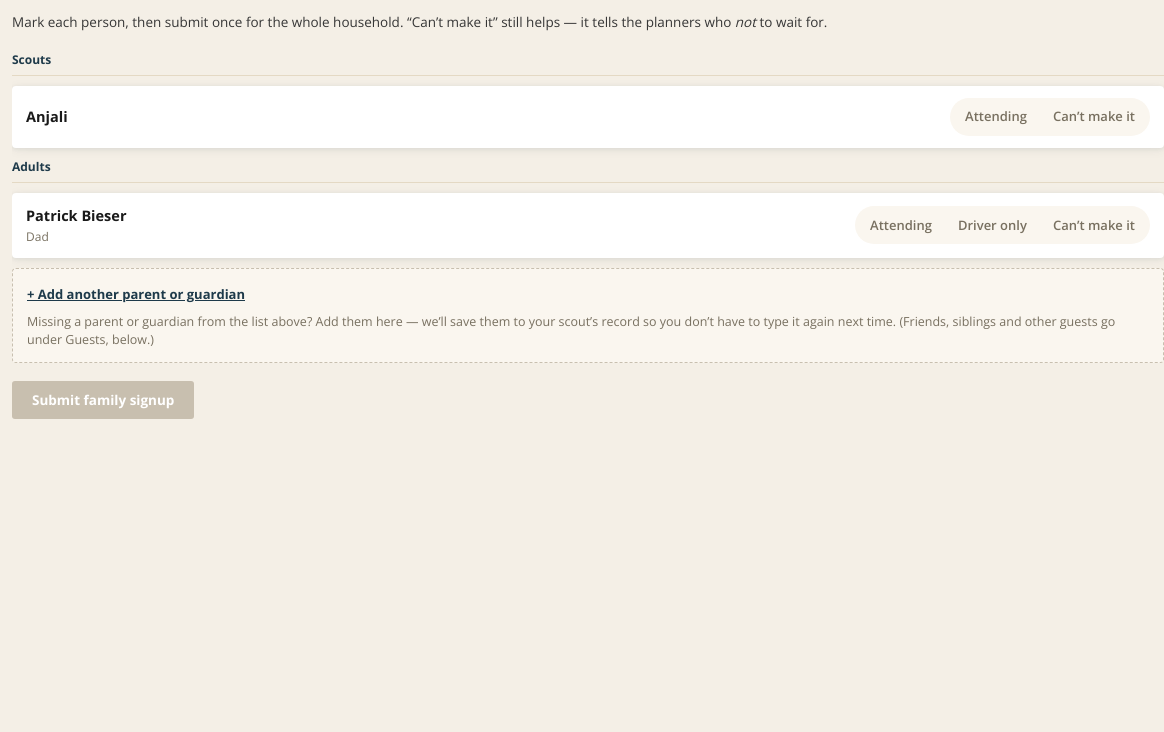
Test: PersonFirstForm — transportation › Driver_CannotGoBelowOneSeat
The image size is (1164, 732).
Click the button "Attending" in the row of "Patrick Bieser" at (901, 225), box [858,209,944,241]
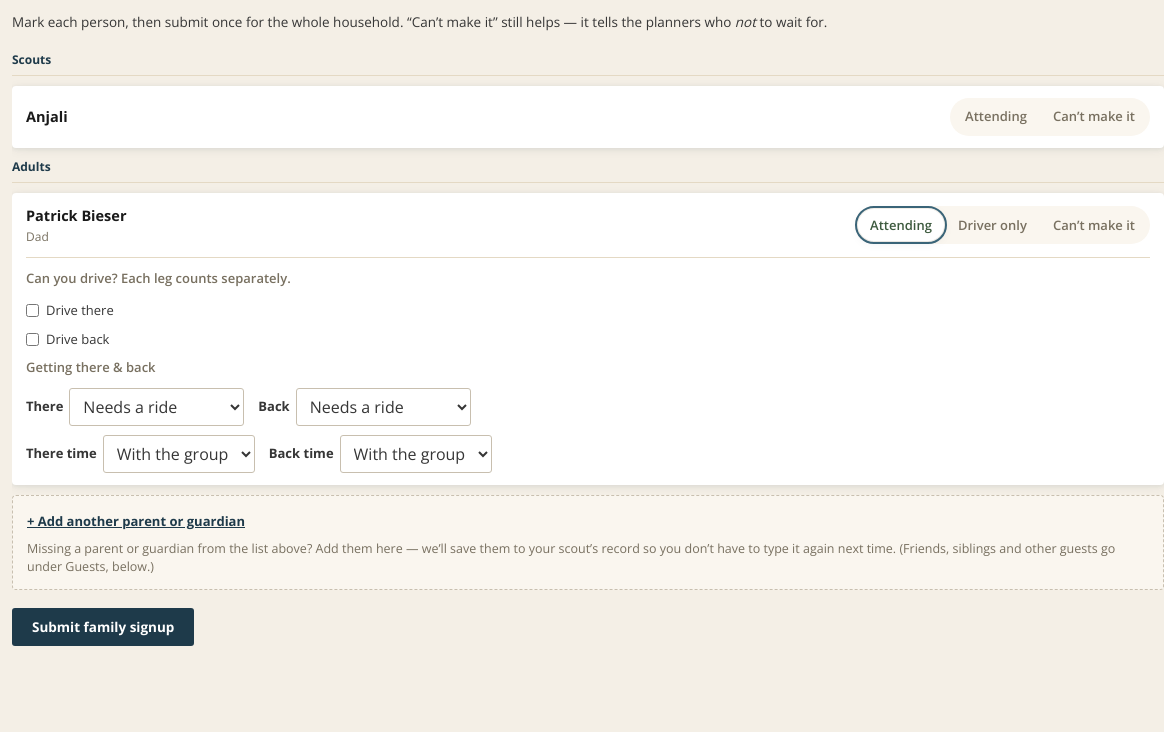
Click the checkbox labelled "Drive there" at (32, 311), box [26,304,39,317]
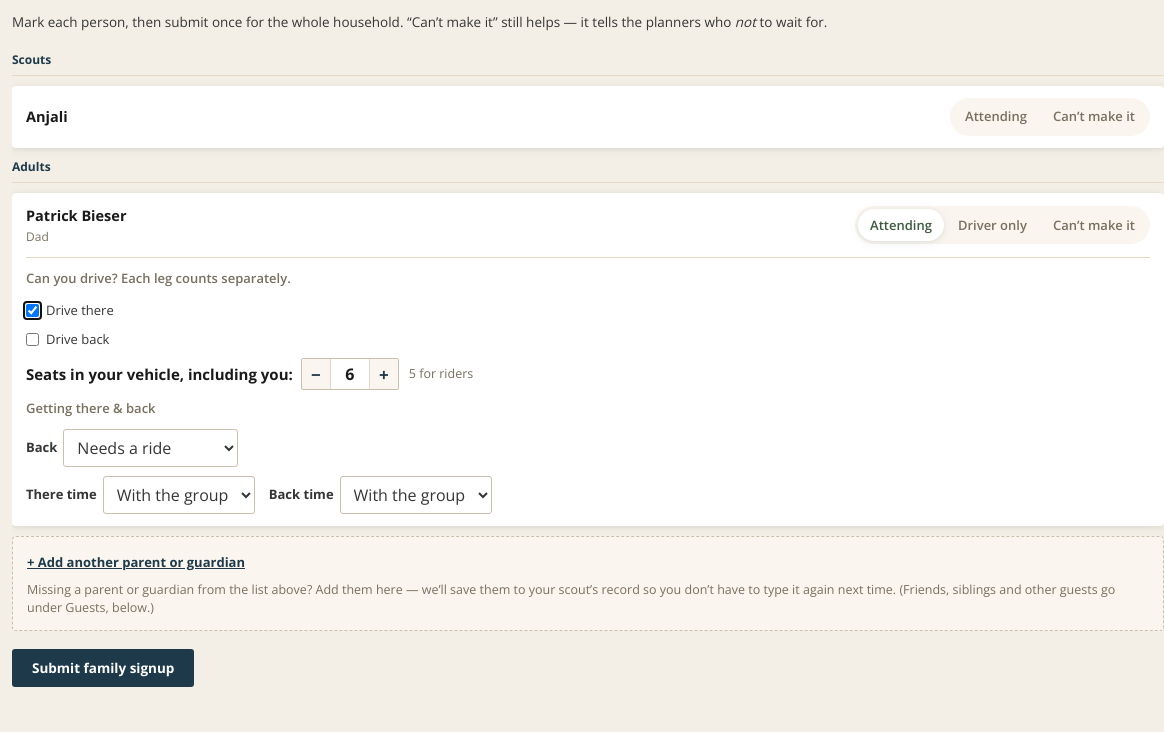
Replace the text in the number field labelled "Seats in your vehicle, including you:" with "0" at (350, 374), box [330,359,370,389]
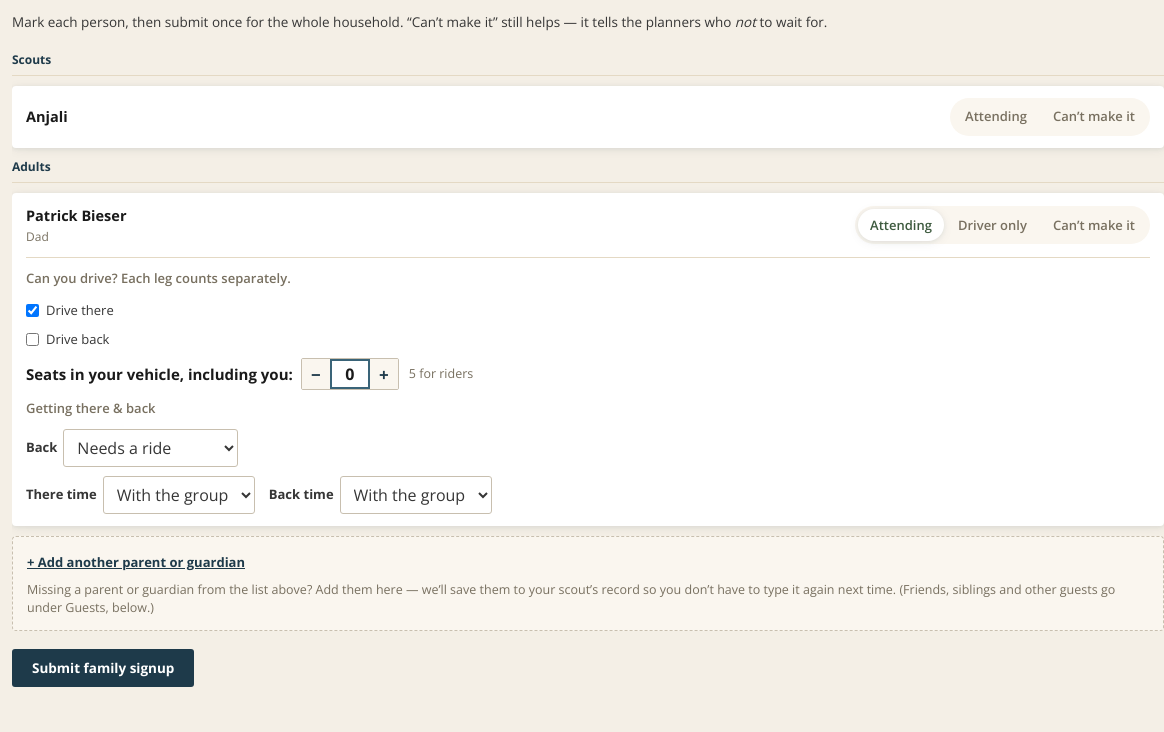
Press Tab
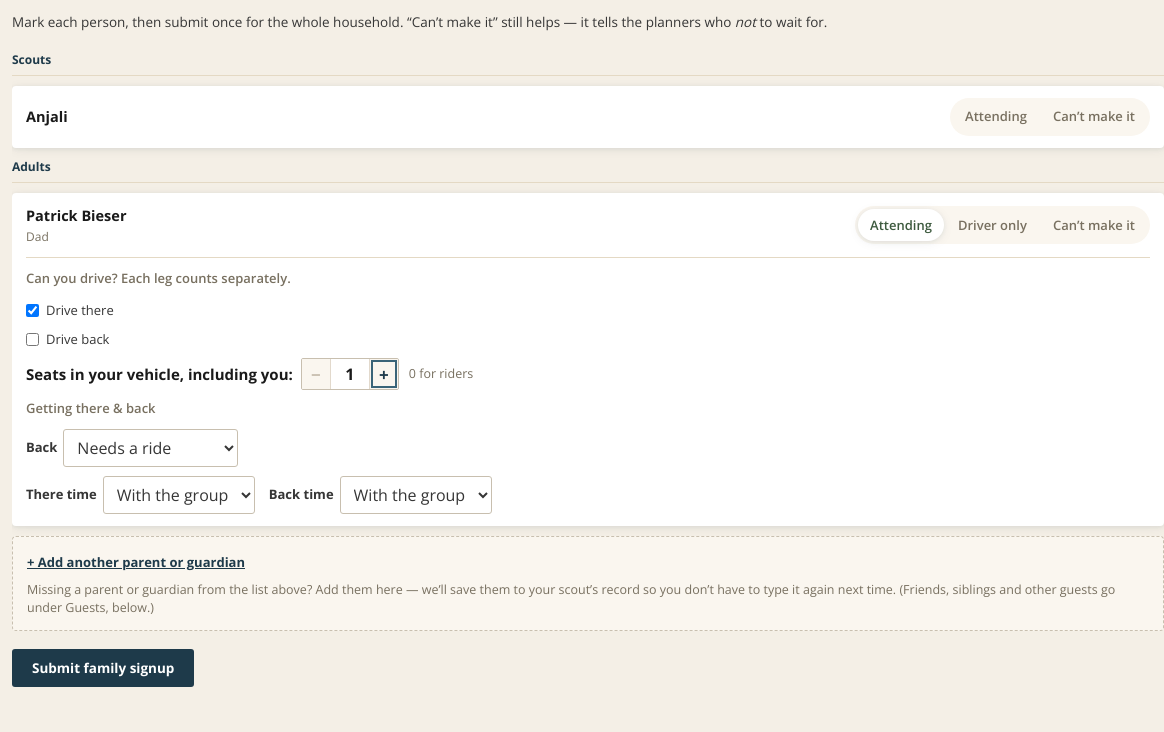
Result: the number field labelled "Seats in your vehicle, including you:" holds "1" at [330,359,370,389]
